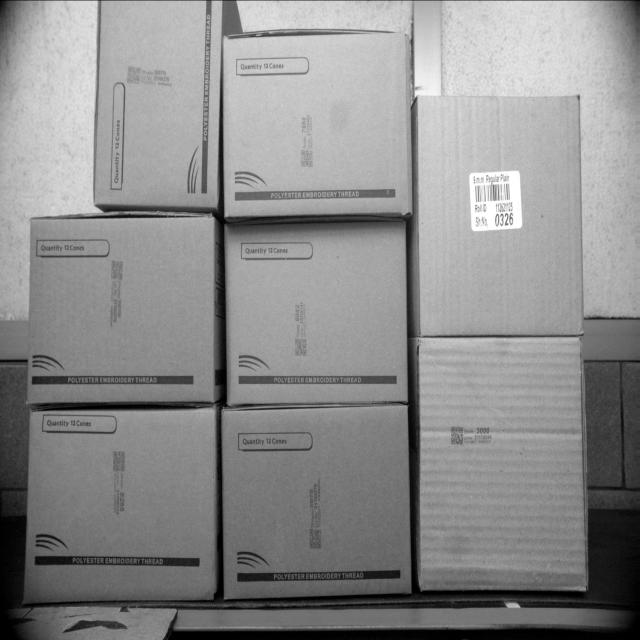cardboxes: (420, 339, 583, 589), (412, 97, 580, 334), (23, 406, 218, 605), (224, 406, 415, 601), (29, 214, 219, 406), (225, 31, 414, 218), (225, 220, 412, 402), (95, 0, 222, 210)
